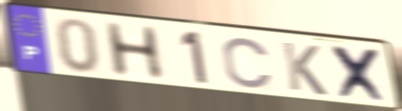0: (53, 17, 105, 77)
1: (178, 30, 213, 86)
C: (221, 36, 276, 91)
H: (101, 20, 168, 81)
K: (279, 40, 329, 98)
X: (328, 43, 392, 106)
